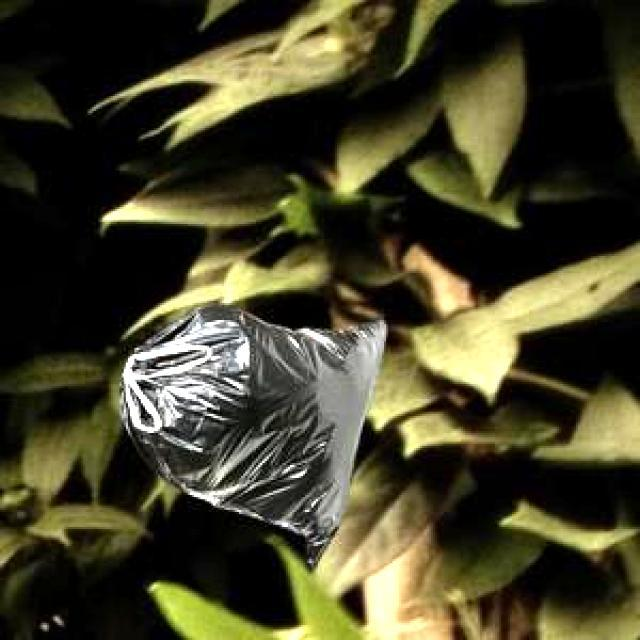Garbage_Bag: (116, 302, 383, 571)
